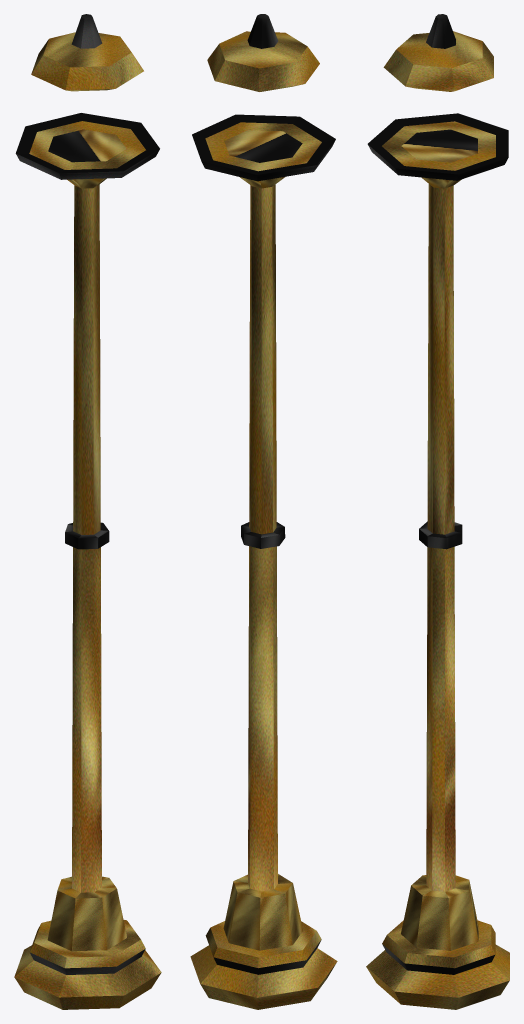
The model's file is street_light.fbx.
The picture shows the model from 3 angles, left to right: view 1: azimuth 30°, elevation 25°; view 2: azimuth 150°, elevation 25°; view 3: azimuth 270°, elevation 25°; orthographic projection.
Visible parts, largest first — view 1: street_light; view 2: street_light; view 3: street_light.
Boxes of the visible parts, x1=… form: street_light: x1=14, y1=14, x2=161, y2=1009; street_light: x1=190, y1=14, x2=337, y2=1009; street_light: x1=366, y1=14, x2=509, y2=1009.
Bounding box in the file's own units: 52.44 × 51.12 × 379.
